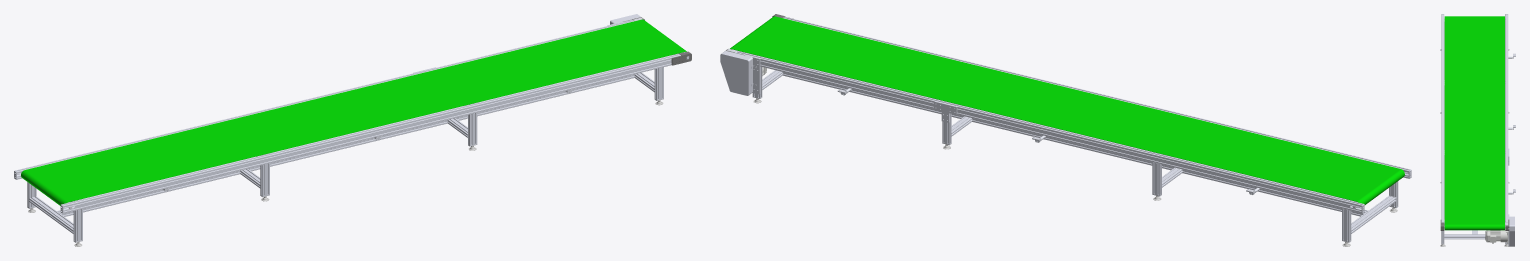
The model's file is conveyor3.glb.
3 renders of one model, left to right at view 1: azimuth 30°, elevation 25°; view 2: azimuth 150°, elevation 25°; view 3: azimuth 270°, elevation 25°, orthographic. The views are drawn at different scales.
Visible parts, largest first — view 1: Part5^conveyor 6.6m, khung(Default<As Machined>) (×10); view 2: Part5^conveyor 6.6m, khung(Default<As Machined>) (×10), cover xich 2; view 3: Part5^conveyor 6.6m, khung(Default<As Machined>) (×7), tam cover(Default) (×4), cover xich 2, WSS-4-0.75KW-110_B5, tam cover 2(Default) (×2), Mesh, E1-S_GH.
Boxes of the visible parts, bbox=[...] form: Part5^conveyor 6.6m: bbox=[21, 19, 686, 205]; khung(Default<As Machined>) (×10): bbox=[15, 20, 680, 233]; Part5^conveyor 6.6m: bbox=[730, 16, 1404, 204]; khung(Default<As Machined>) (×10): bbox=[736, 17, 1410, 233]; cover xich 2: bbox=[720, 51, 752, 95]; Part5^conveyor 6.6m: bbox=[1444, 16, 1504, 230]; khung(Default<As Machined>) (×7): bbox=[1441, 14, 1508, 239]; tam cover(Default) (×4): bbox=[1444, 84, 1505, 220]; cover xich 2: bbox=[1509, 216, 1514, 246]; WSS-4-0.75KW-110_B5: bbox=[1485, 230, 1500, 242]; tam cover 2(Default) (×2): bbox=[1444, 20, 1505, 80]; Mesh: bbox=[1501, 230, 1508, 243]; E1-S_GH: bbox=[1490, 235, 1496, 243].
Bounding box in the file's own units: 6.73 × 0.453 × 1.02.
